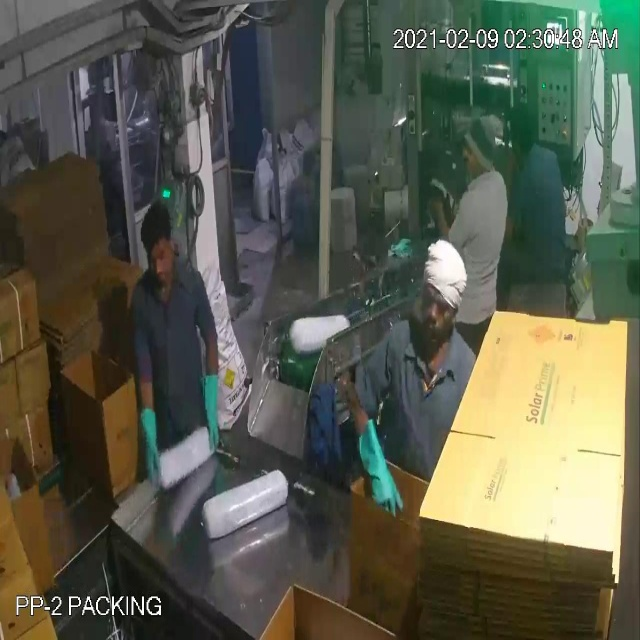Guantes: (349, 398, 410, 526), (192, 356, 235, 462), (130, 393, 167, 495)
